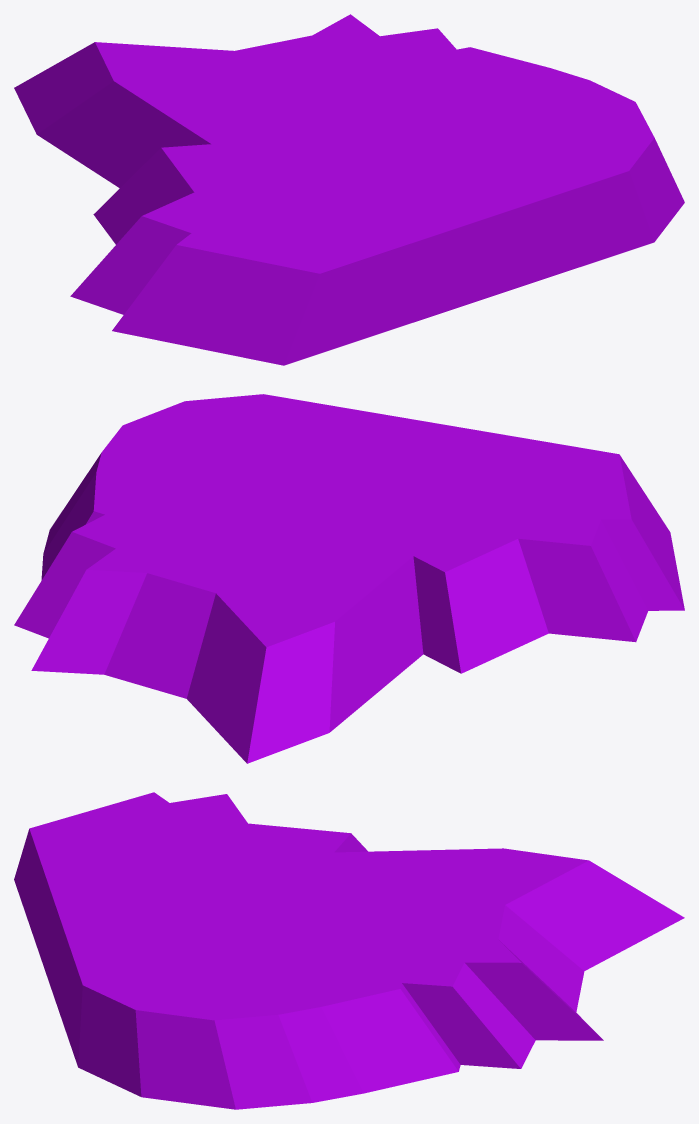
Rendered from magic_purple.fbx.
3 renders of one model, top to bottom at view 1: azimuth 30°, elevation 25°; view 2: azimuth 150°, elevation 25°; view 3: azimuth 270°, elevation 25°, orthographic. The views are drawn at different scales.
Parts seen in each view (by area): view 1: 실린더; view 2: 실린더; view 3: 실린더.
Boxes of the visible parts, left/top/right/bottom form: 실린더: left=14, top=14, right=684, bottom=365; 실린더: left=14, top=394, right=684, bottom=763; 실린더: left=14, top=792, right=684, bottom=1109.
Size of the model in its own units: 188 by 23.02 by 195.
